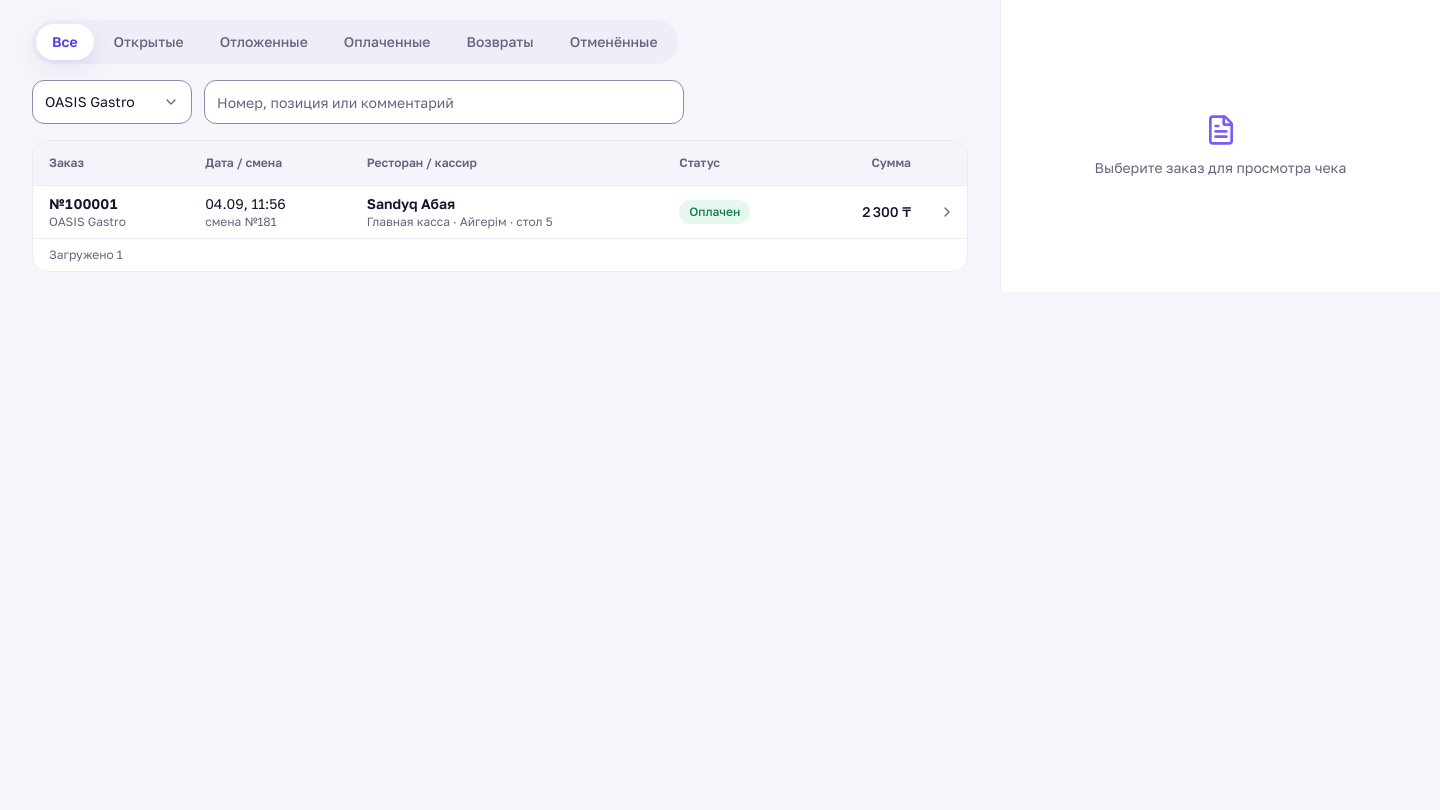
Test: «Заказы и чеки» register (W1-RTL-05) › a row click at 1440px opens the receipt card (L-17) and its URL
Click the text "№100001": x=84, y=203 [49, 194, 118, 212]
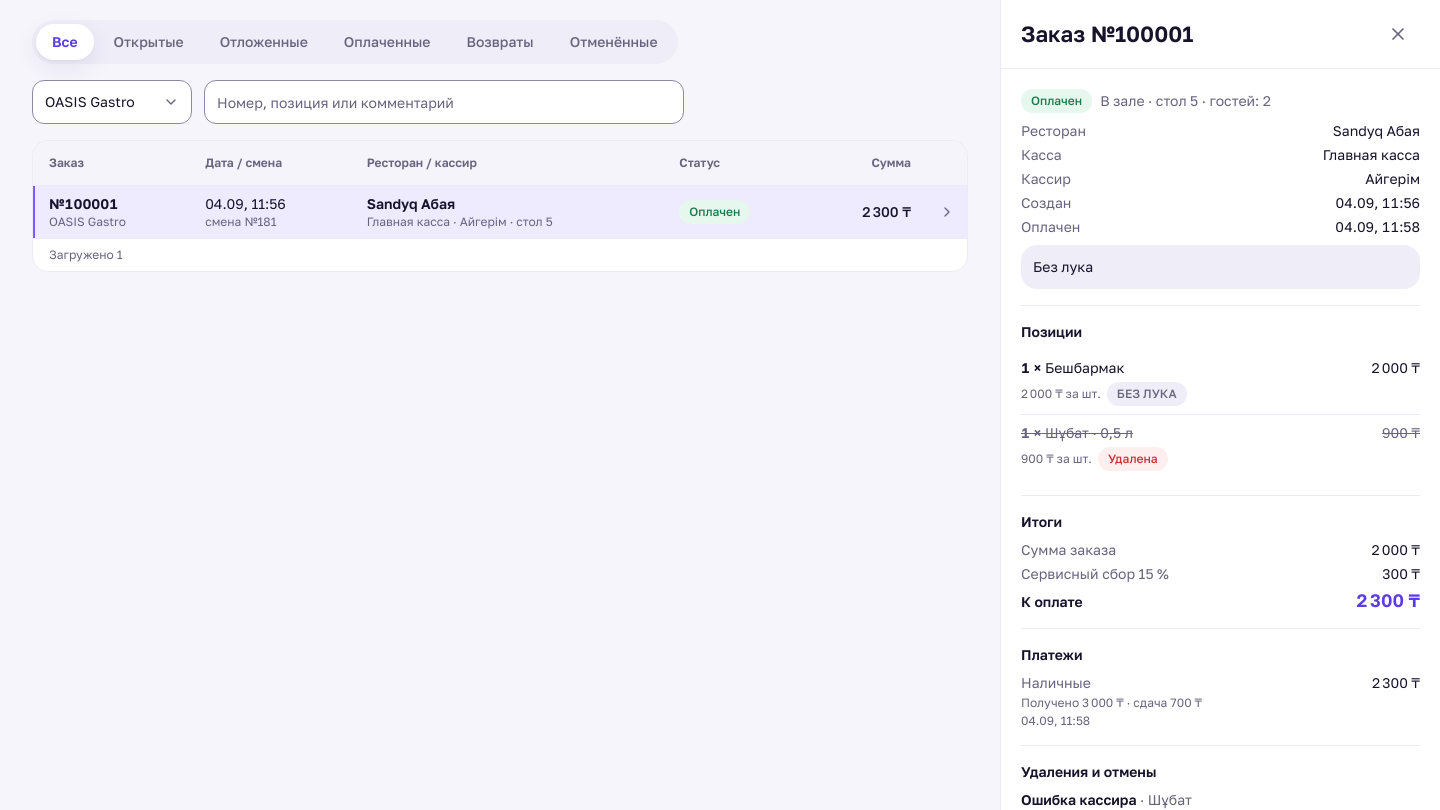
Result: the text "Бешбармак" is shown at [1045, 359, 1125, 376]
